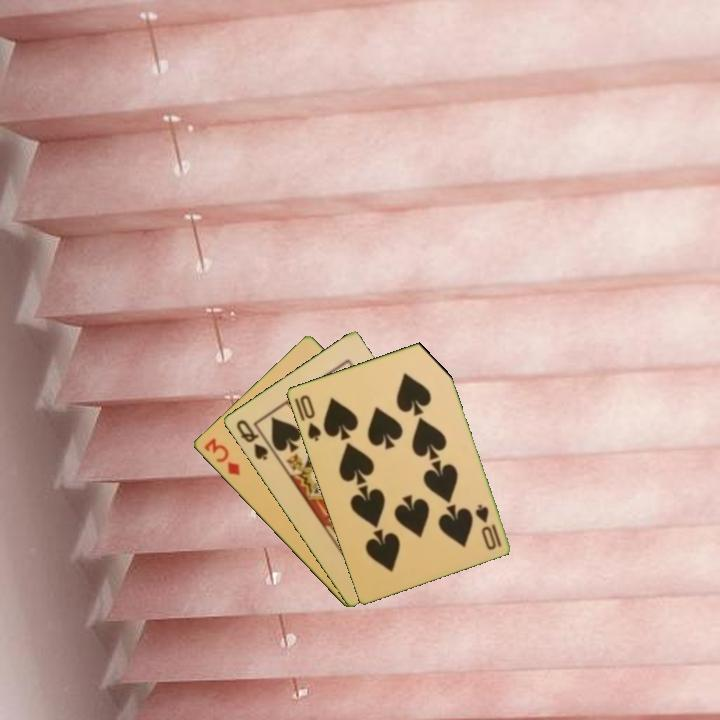10s: (471, 500, 504, 553), (296, 391, 324, 444)
3d: (200, 434, 243, 479)
Qs: (232, 416, 271, 463)
